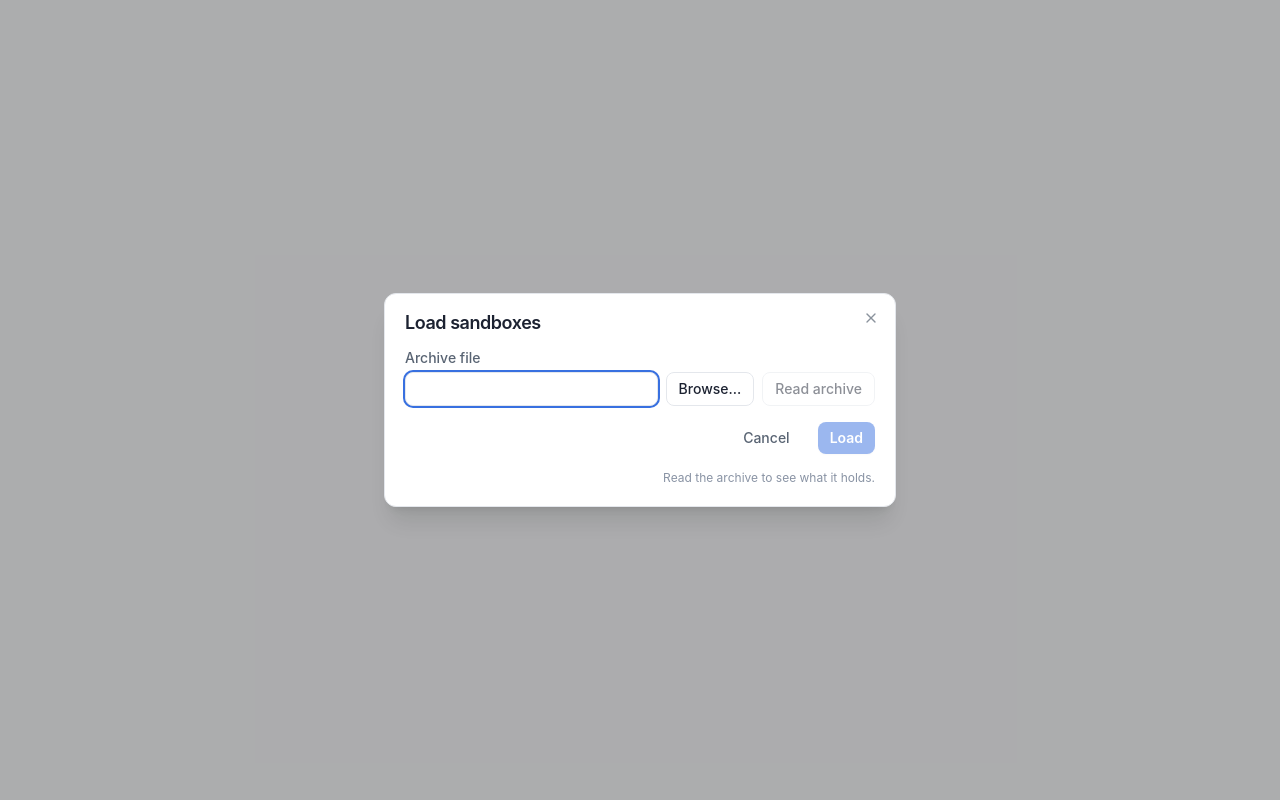
LoadArchive › requires a selection
Step 1. Type "/in/a.izba" into the field labelled "Archive file" → (531, 389), box left=405, top=372, right=658, bottom=406
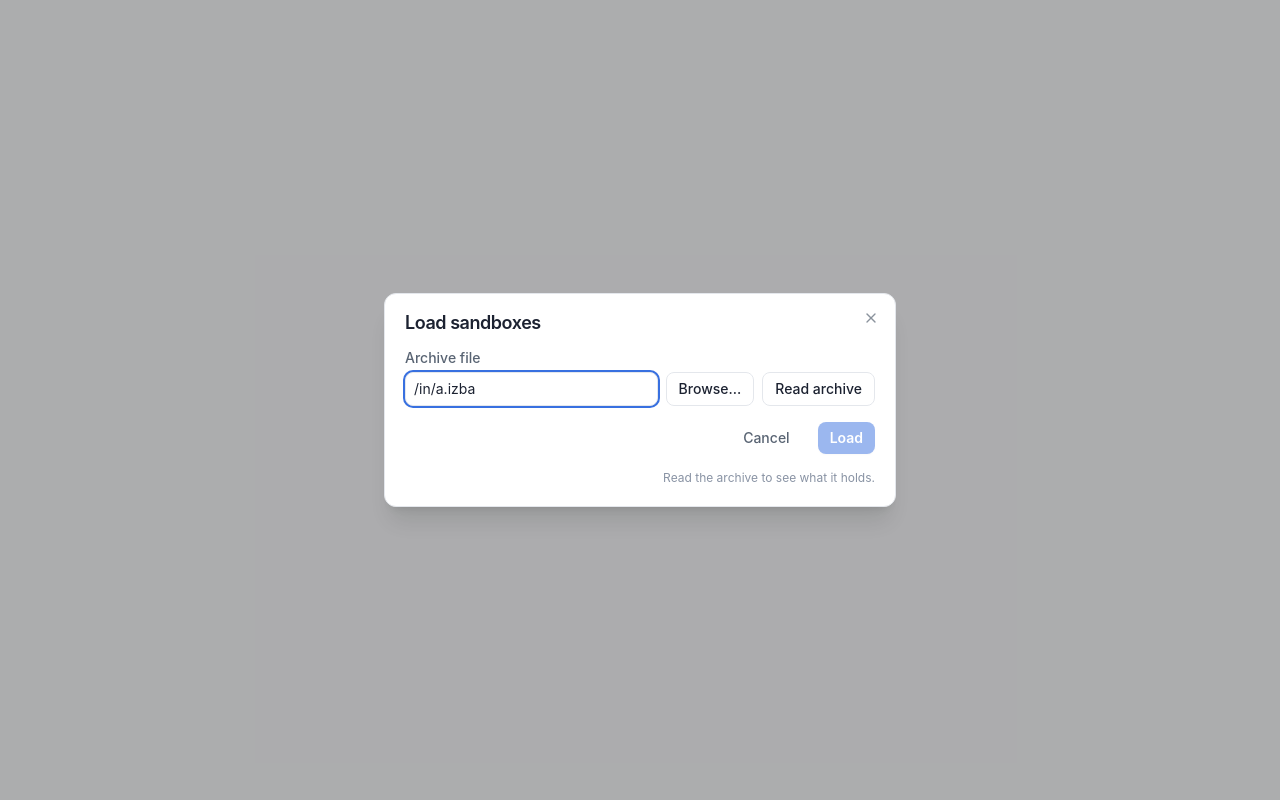
Step 2. Click the button "Read archive" → (819, 389), box left=762, top=372, right=875, bottom=406
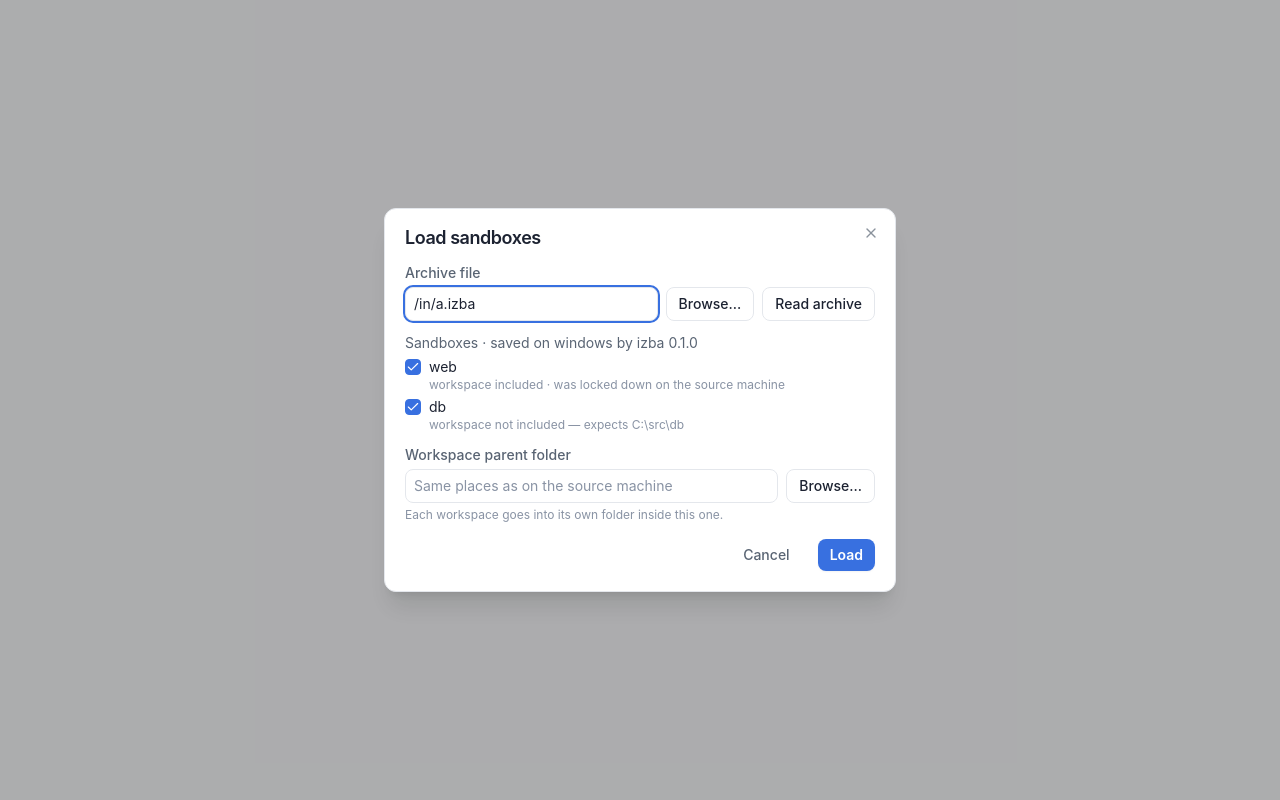
Now the checkbox named "Load web" is shown
Step 3. Click the checkbox named "Load web" → (413, 367), box left=405, top=359, right=421, bottom=375
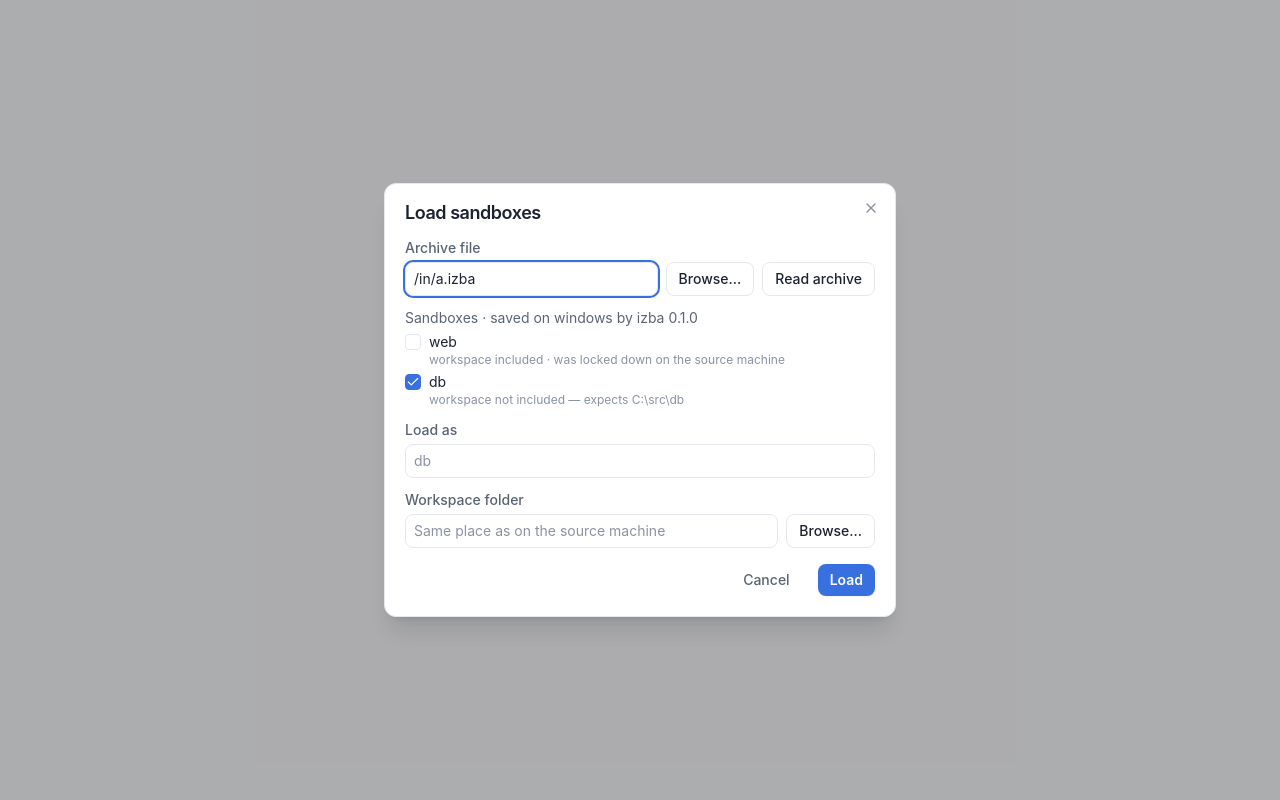
Step 4. Click the checkbox named "Load db" → (413, 382), box left=405, top=374, right=421, bottom=390
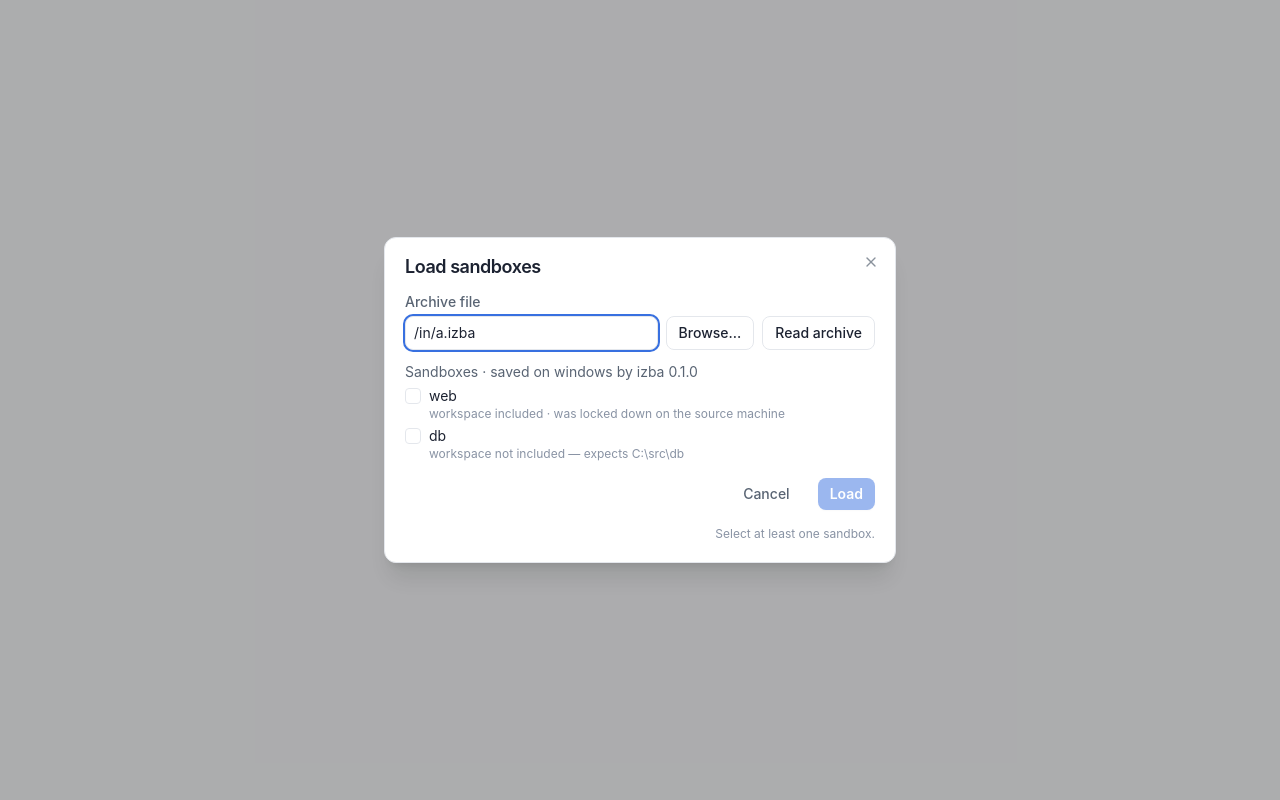
Now the button "Load" is disabled, box left=818, top=478, right=875, bottom=510
Now the text "Select at least one sandbox." is shown, box left=715, top=526, right=875, bottom=541
